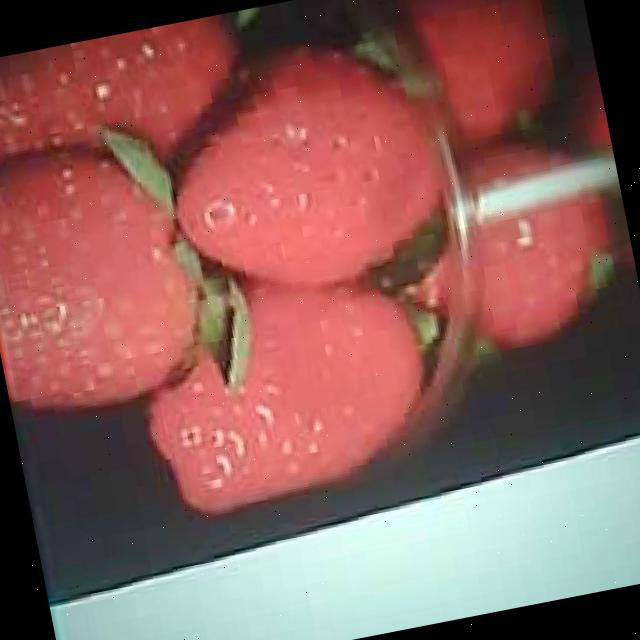strawberry: (154, 34, 456, 306)
